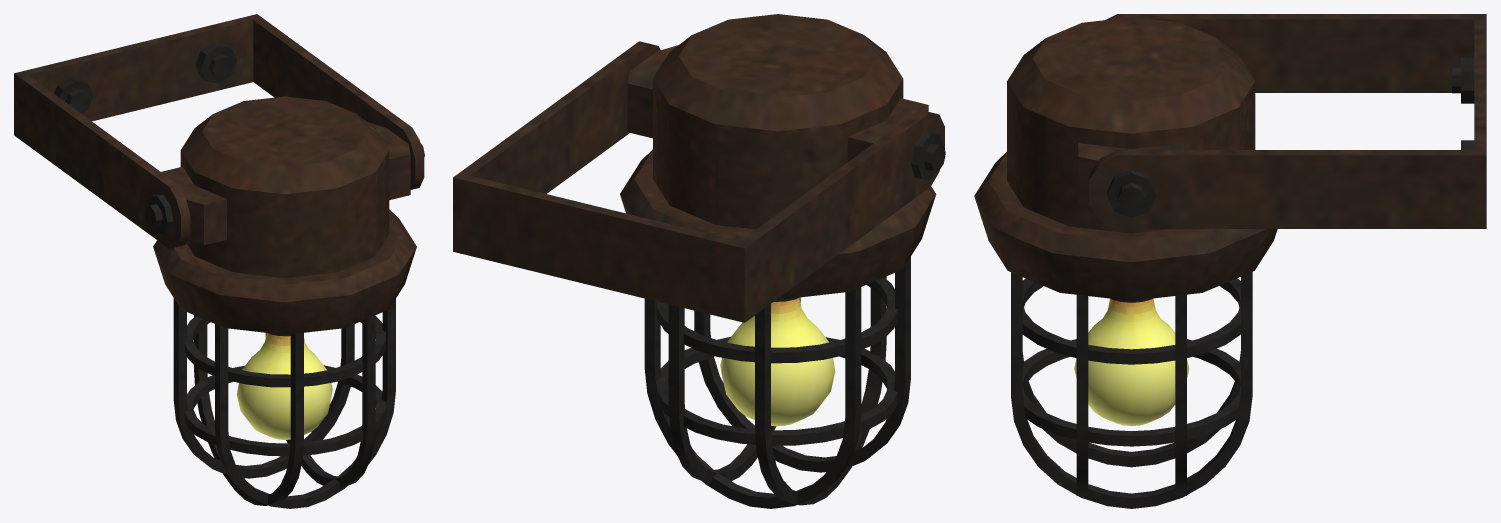
File: lamp_mx_1_on.obj
The picture shows the model from 3 angles, left to right: view 1: azimuth 30°, elevation 25°; view 2: azimuth 150°, elevation 25°; view 3: azimuth 270°, elevation 25°; orthographic projection. The views are drawn at different scales.
Visible parts, largest first — view 1: lamp_mx_1_on; view 2: lamp_mx_1_on; view 3: lamp_mx_1_on.
Part boxes in pixels (x1,y1,x2,y2): lamp_mx_1_on: [14, 14, 424, 508]; lamp_mx_1_on: [453, 14, 945, 508]; lamp_mx_1_on: [974, 14, 1486, 508].
Size of the model in its own units: 0.2245 by 0.2865 by 0.3118.
